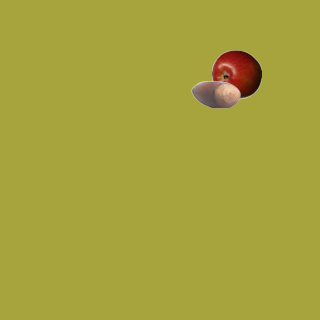Apple Braeburn: (211, 49, 261, 99)
Hazelnut: (190, 69, 240, 119)
